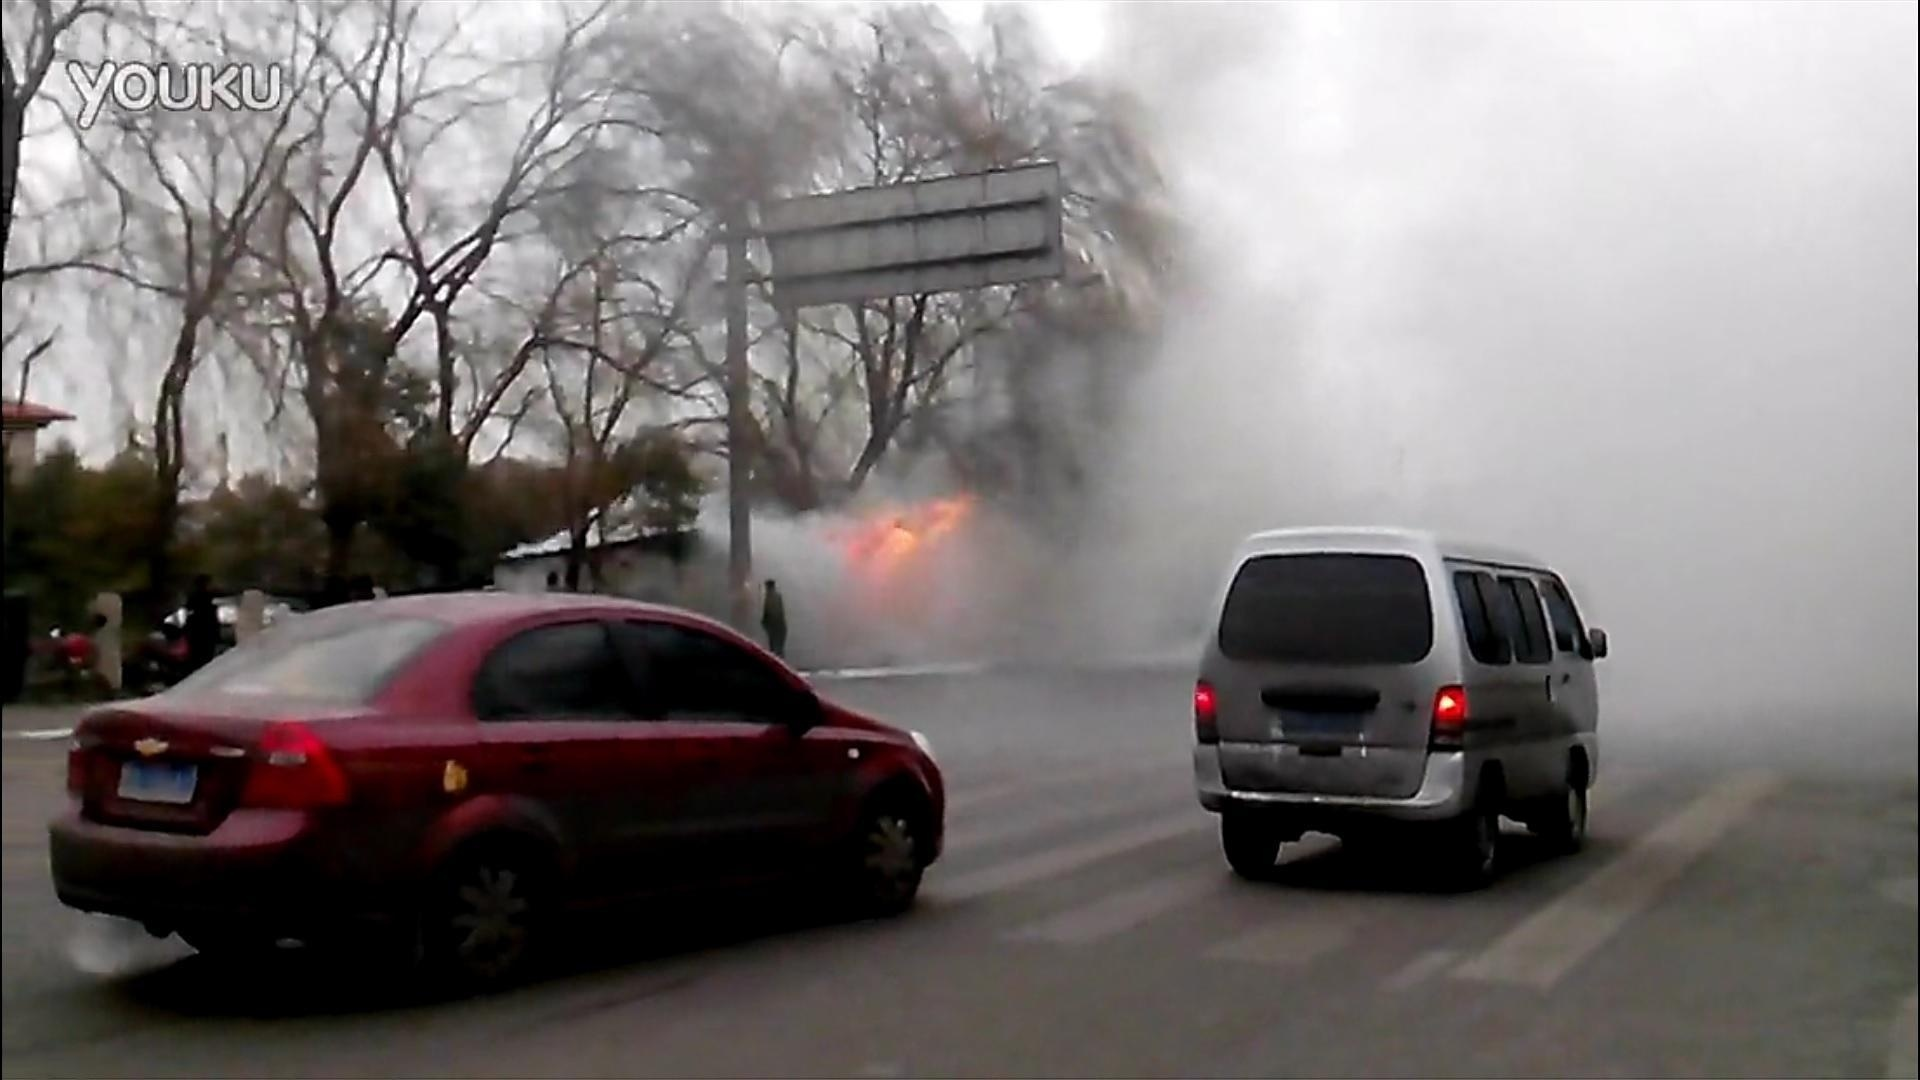fire: (851, 488, 973, 574)
